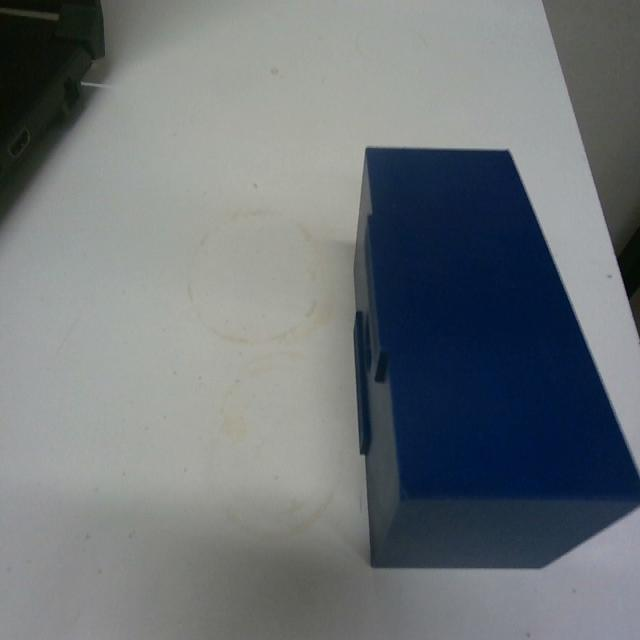Blue Cuboid: (349, 141, 639, 571)
